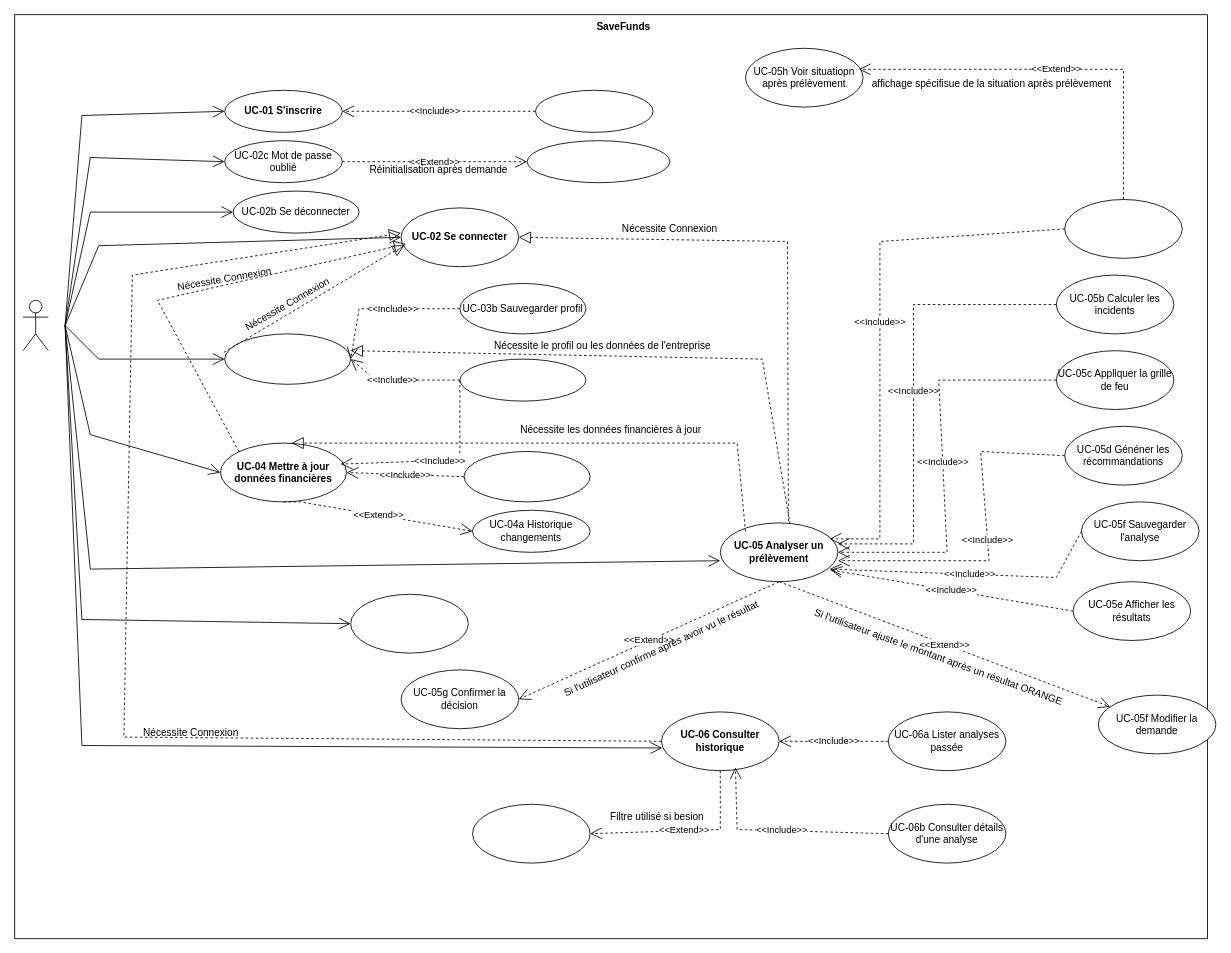
Image size: 1231x953. Some labels were removed from this diagram. Here are the shapes that lost their labels. From the top down, the centre of each, then its label:
the point at 594,110: UC-01a Valider email
the point at 598,161: UC-02d Réinitialiser mot de pase
the point at 1123,228: UC-05a Saisir demande de prélèvement
the point at 35,325: Dirigeant
the point at 287,358: UC-03 Créer profil entreprise
the point at 522,379: UC-03a Valider Profil
the point at 526,476: UC-04b Recalculer indicateurs profil
the point at 409,623: UC-04c Consulter Profil
the point at 531,833: UC-06c Filter Historique
